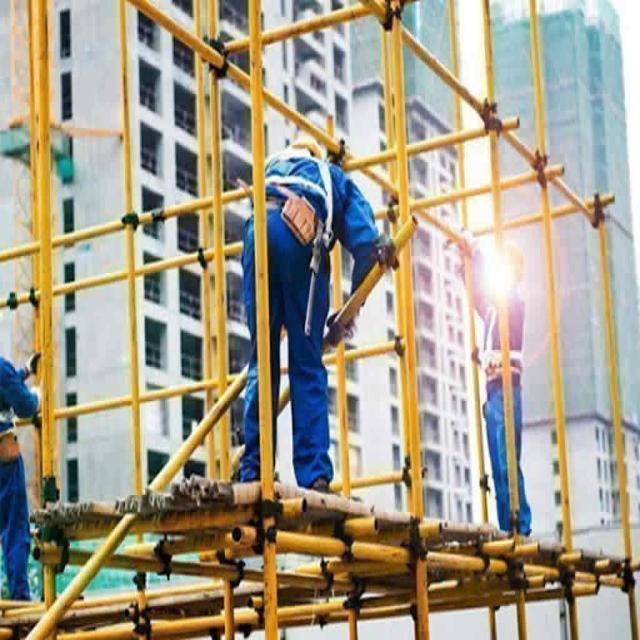Arnes_seguridad: (255, 148, 335, 280)
